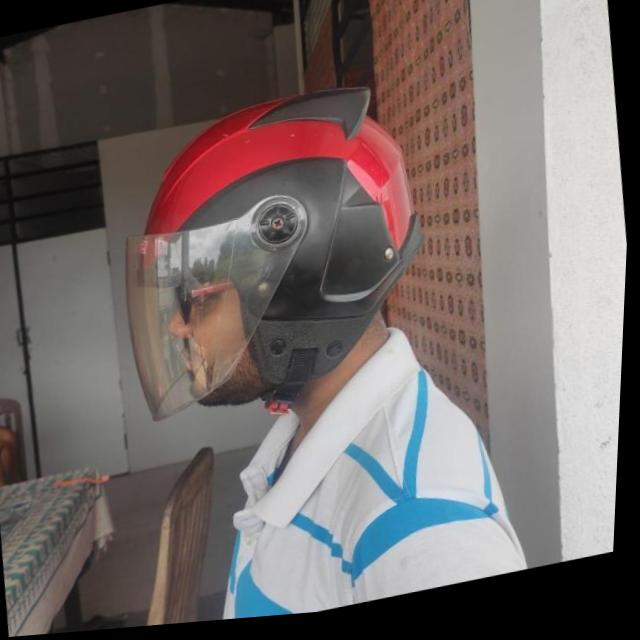helmet: (102, 72, 450, 453)
